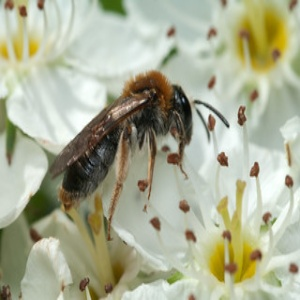bee: (47, 68, 230, 238)
